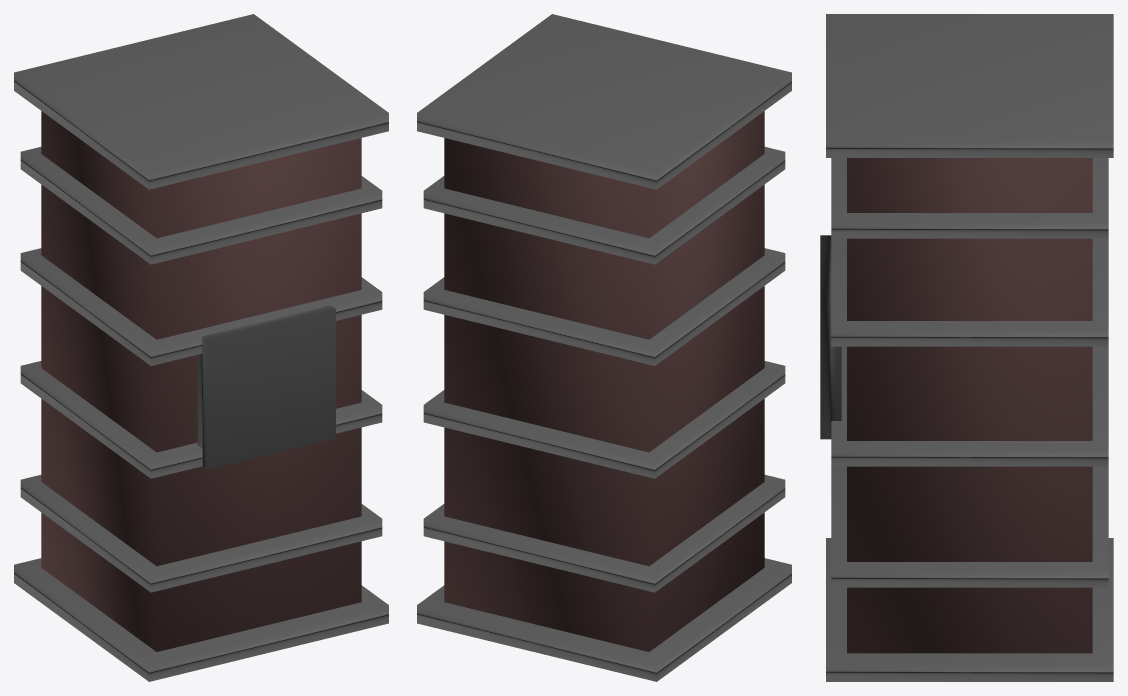
The model's file is crate 2.fbx.
3 views of the same model, side by side, from view 1: azimuth 30°, elevation 25°; view 2: azimuth 150°, elevation 25°; view 3: azimuth 270°, elevation 25° (orthographic). The views are drawn at different scales.
Parts seen in each view (by area): view 1: PM3D_Cube3D1_165; view 2: PM3D_Cube3D1_165; view 3: PM3D_Cube3D1_165.
Boxes of the visible parts, left/top/right/bottom form: PM3D_Cube3D1_165: left=14, top=14, right=388, bottom=681; PM3D_Cube3D1_165: left=417, top=14, right=791, bottom=681; PM3D_Cube3D1_165: left=820, top=14, right=1113, bottom=681.
Bounding box in the file's own units: 92.83 × 189 × 92.43.
